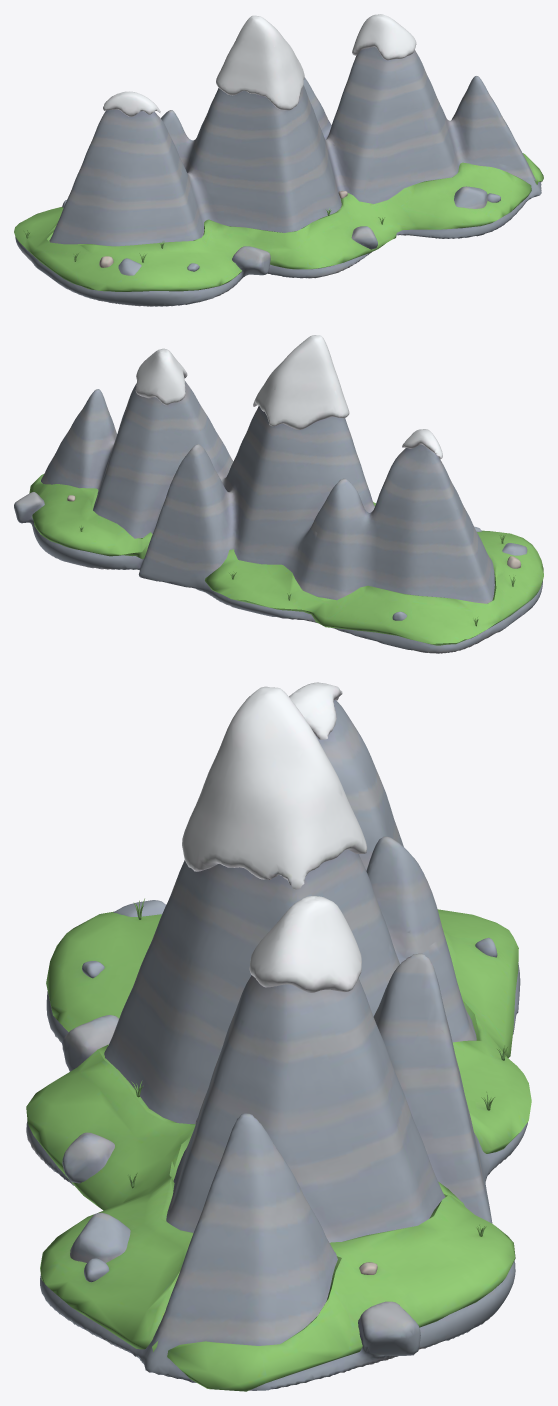
Rendered from mountain-range.glb.
3 renders of one model, top to bottom at view 1: azimuth 30°, elevation 25°; view 2: azimuth 150°, elevation 25°; view 3: azimuth 270°, elevation 25°, orthographic. The views are drawn at different scales.
Parts seen in each view (by area): view 1: mountain-range_body; view 2: mountain-range_body; view 3: mountain-range_body.
Boxes of the visible parts, x1,y1,x2,y2 form: mountain-range_body: (14,14,543,306); mountain-range_body: (14,335,543,653); mountain-range_body: (26,682,531,1391).
Size of the model in its own units: 16.17 by 7.05 by 7.44.
Materials: 1 (1 with a texture image).
